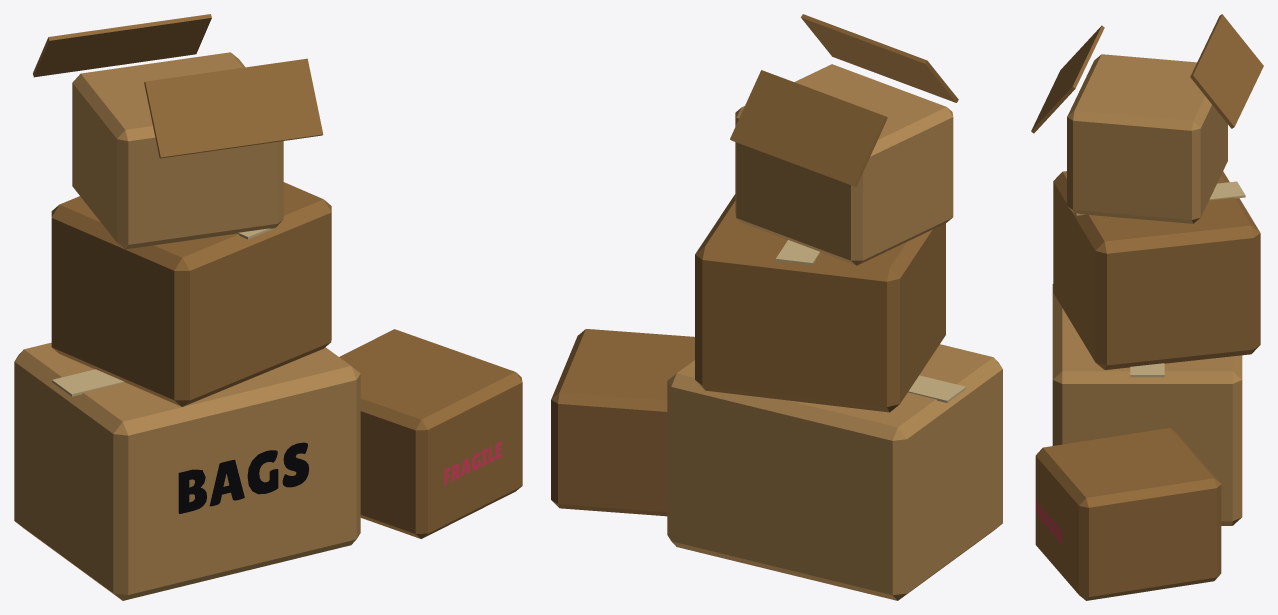
The model's file is box_stack.glb.
3 renders of one model, left to right at view 1: azimuth 30°, elevation 25°; view 2: azimuth 150°, elevation 25°; view 3: azimuth 270°, elevation 25°, orthographic. The views are drawn at different scales.
Parts seen in each view (by area): view 1: body; view 2: body; view 3: body.
Part boxes in pixels (x1=…): body: x1=14, y1=14, x2=522, y2=600; body: x1=551, y1=14, x2=1002, y2=600; body: x1=1031, y1=14, x2=1263, y2=600.
Bounding box in the file's own units: 2.24 × 2.47 × 1.23.
